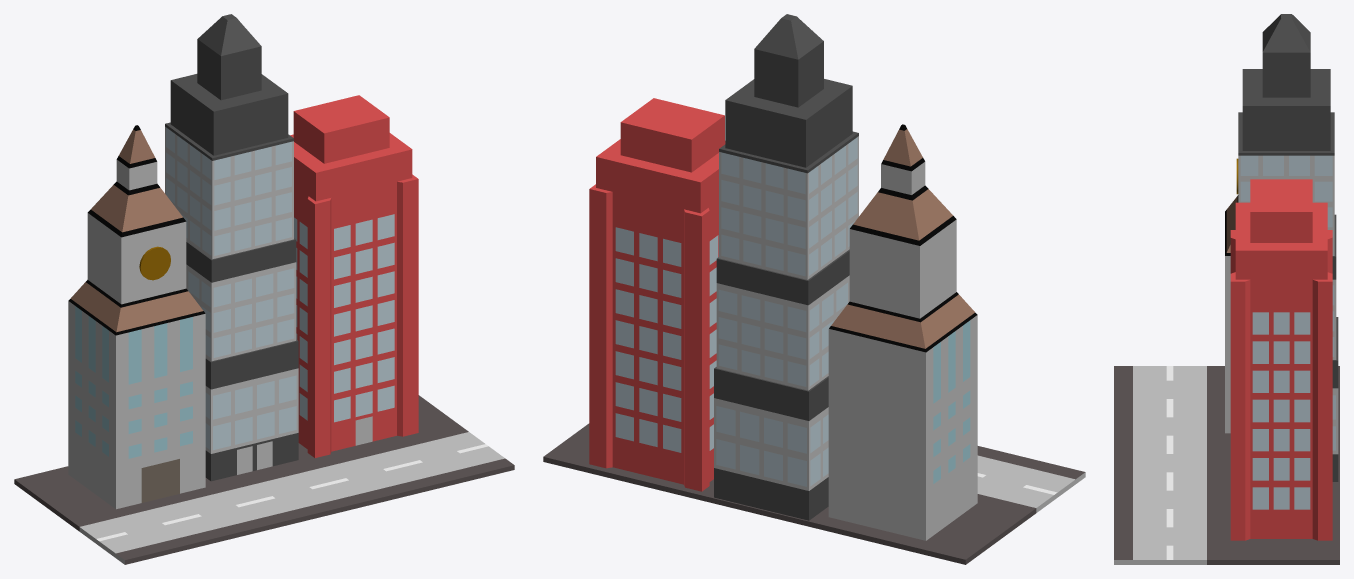
The picture shows the model from 3 angles, left to right: view 1: azimuth 30°, elevation 25°; view 2: azimuth 150°, elevation 25°; view 3: azimuth 270°, elevation 25°; orthographic projection. The views are drawn at different scales.
Visible parts, largest first — view 1: node-0; view 2: node-0; view 3: node-0.
Part boxes in pixels (x1,y1,x2,y2): node-0: (14,14,514,564); node-0: (543,14,1085,564); node-0: (1114,14,1339,564).
Bounding box in the file's own units: 263 × 284 × 129.
